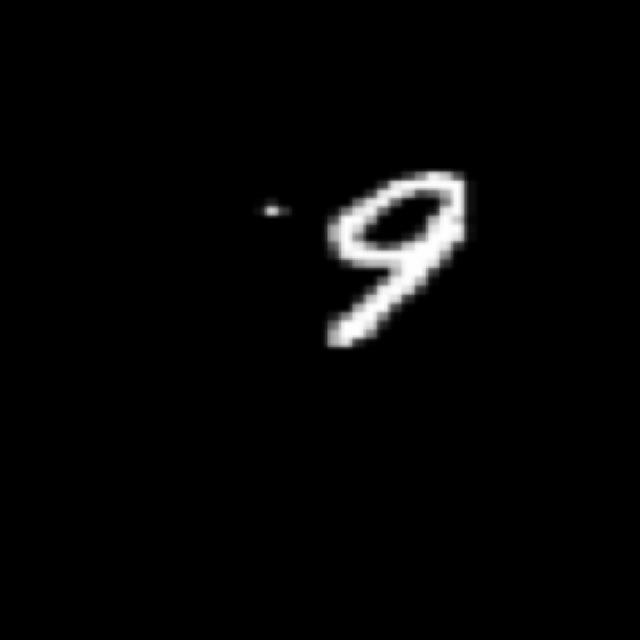nine -9-: (321, 164, 480, 356)
